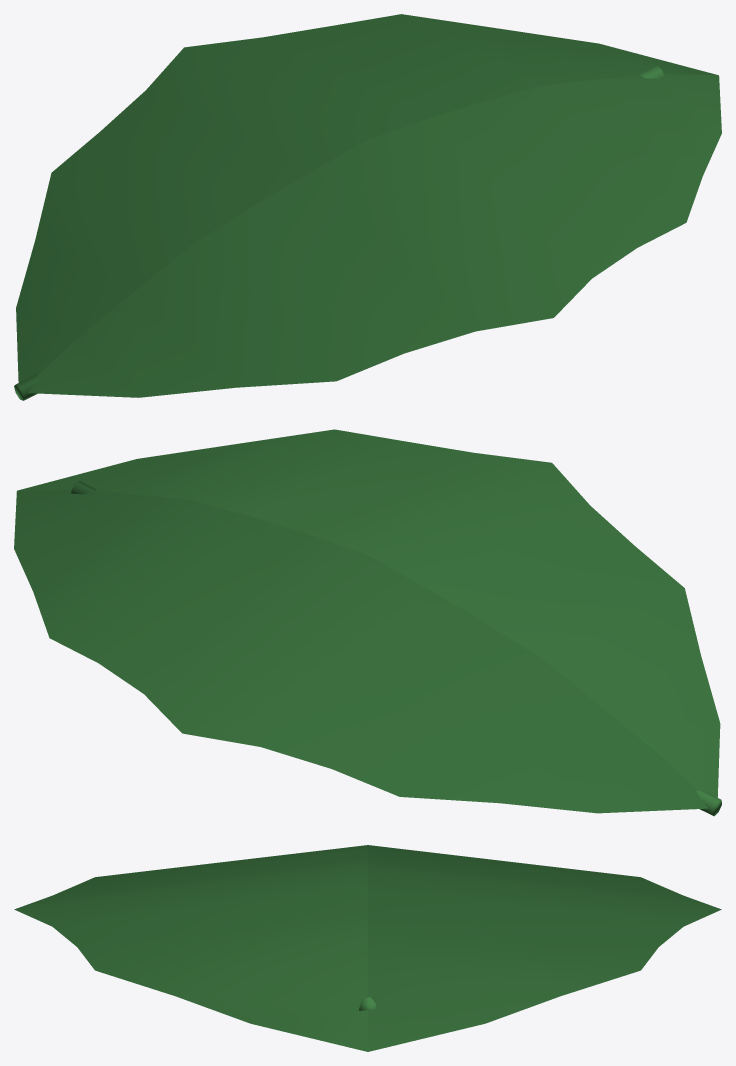
The model's file is Spinach.glb.
3 renders of one model, top to bottom at view 1: azimuth 30°, elevation 25°; view 2: azimuth 150°, elevation 25°; view 3: azimuth 270°, elevation 25°, orthographic. The views are drawn at different scales.
Parts seen in each view (by area): view 1: Spinach; view 2: Spinach; view 3: Spinach.
Part boxes in pixels (box(x1,y1,x2,y2)): Spinach: box(14, 14, 721, 400); Spinach: box(14, 429, 721, 816); Spinach: box(14, 845, 721, 1051).
Size of what is drawn, in the model's own units: 0.0953 by 0.0244 by 0.0869.
